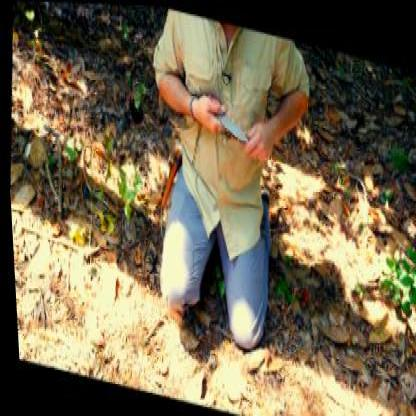knife: (197, 89, 252, 146)
